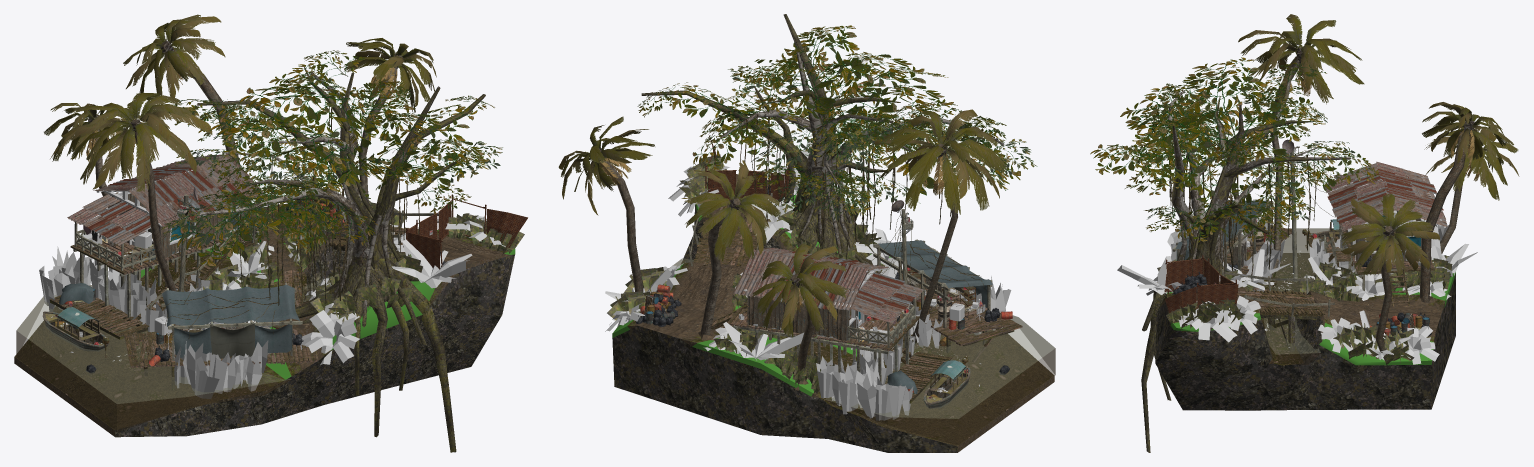
3 renders of one model, left to right at view 1: azimuth 30°, elevation 25°; view 2: azimuth 150°, elevation 25°; view 3: azimuth 270°, elevation 25°, orthographic. The views are drawn at different scales.
Visible parts, largest first — view 1: Cube.030, Cube.049, Cylinder.007, Plane.005, Plane.188, Plane.030, Plane.190, Plane.191, Plane.148, Plane.014, Plane.140, Plane.184 (+47 smaller); view 2: Cube.030, Cube.049, Plane.188, Cylinder.007, Plane.005, Plane.190, Plane.189, Plane.191, Cube.035, Plane.030, Cube.135, Plane.148 (+36 smaller); view 3: Cube.030, Cylinder.007, Plane.191, Plane.005, Plane.188, Plane.190, Cube.049, Plane.148, Plane.014, Plane.189, Plane.150, Plane.140 (+39 smaller).
Part boxes in pixels (x1=…): Cube.030: x1=14, y1=203, x2=515, y2=437; Cube.049: x1=16, y1=277, x2=329, y2=432; Cylinder.007: x1=196, y1=67, x2=485, y2=269; Plane.005: x1=67, y1=153, x2=264, y2=245; Plane.188: x1=62, y1=92, x2=212, y2=191; Plane.030: x1=162, y1=285, x2=299, y2=326; Plane.190: x1=123, y1=14, x2=225, y2=104; Plane.191: x1=343, y1=38, x2=436, y2=112; Plane.148: x1=239, y1=86, x2=390, y2=140; Plane.014: x1=407, y1=204, x2=527, y2=269; Plane.140: x1=210, y1=117, x2=357, y2=177; Plane.184: x1=177, y1=189, x2=328, y2=266; Cube.030: x1=612, y1=174, x2=1054, y2=452; Cube.049: x1=669, y1=258, x2=1055, y2=444; Plane.188: x1=874, y1=109, x2=1008, y2=214; Cylinder.007: x1=641, y1=14, x2=1004, y2=222; Plane.005: x1=733, y1=247, x2=923, y2=323; Plane.190: x1=681, y1=160, x2=780, y2=261; Plane.189: x1=752, y1=243, x2=847, y2=337; Plane.191: x1=558, y1=116, x2=654, y2=215; Cube.035: x1=747, y1=272, x2=868, y2=340; Plane.030: x1=876, y1=240, x2=992, y2=288; Cube.135: x1=897, y1=271, x2=1022, y2=362; Plane.148: x1=786, y1=54, x2=924, y2=118; Cube.030: x1=1155, y1=253, x2=1455, y2=410; Cylinder.007: x1=1168, y1=67, x2=1350, y2=274; Plane.191: x1=1341, y1=193, x2=1439, y2=275; Plane.005: x1=1324, y1=161, x2=1447, y2=231; Plane.188: x1=1238, y1=14, x2=1364, y2=112; Plane.190: x1=1422, y1=102, x2=1513, y2=165; Cube.049: x1=1264, y1=228, x2=1393, y2=364; Plane.148: x1=1172, y1=57, x2=1292, y2=152; Plane.014: x1=1164, y1=258, x2=1238, y2=312; Plane.189: x1=1425, y1=114, x2=1519, y2=200; Plane.150: x1=1120, y1=85, x2=1232, y2=177; Plane.140: x1=1167, y1=67, x2=1285, y2=158.
Bounding box in the file's own units: 3547 × 2931 × 3504.
